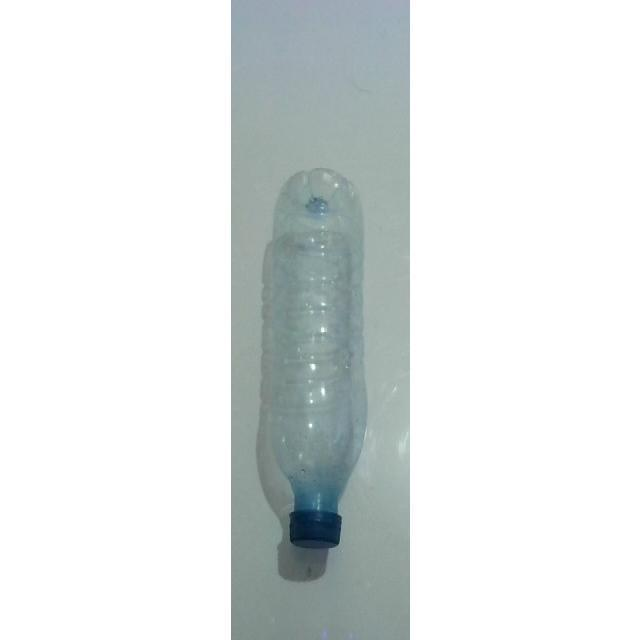plastic_bottle: (265, 167, 370, 548)
